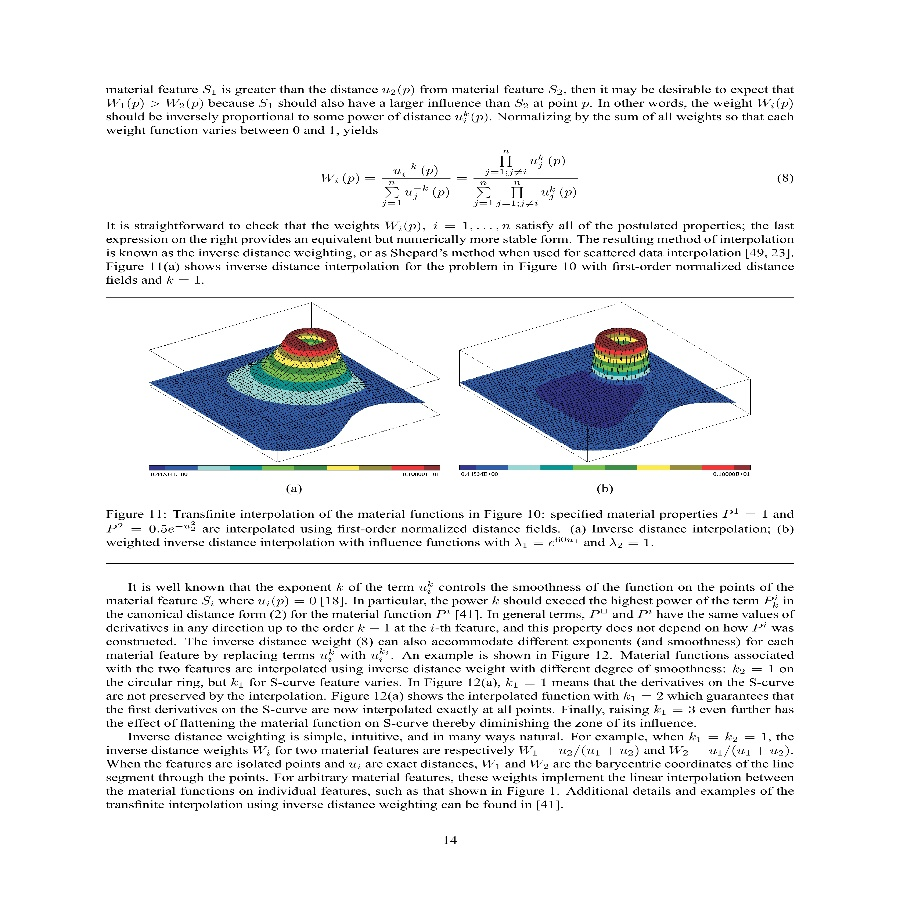eq: (318, 145, 587, 214)
